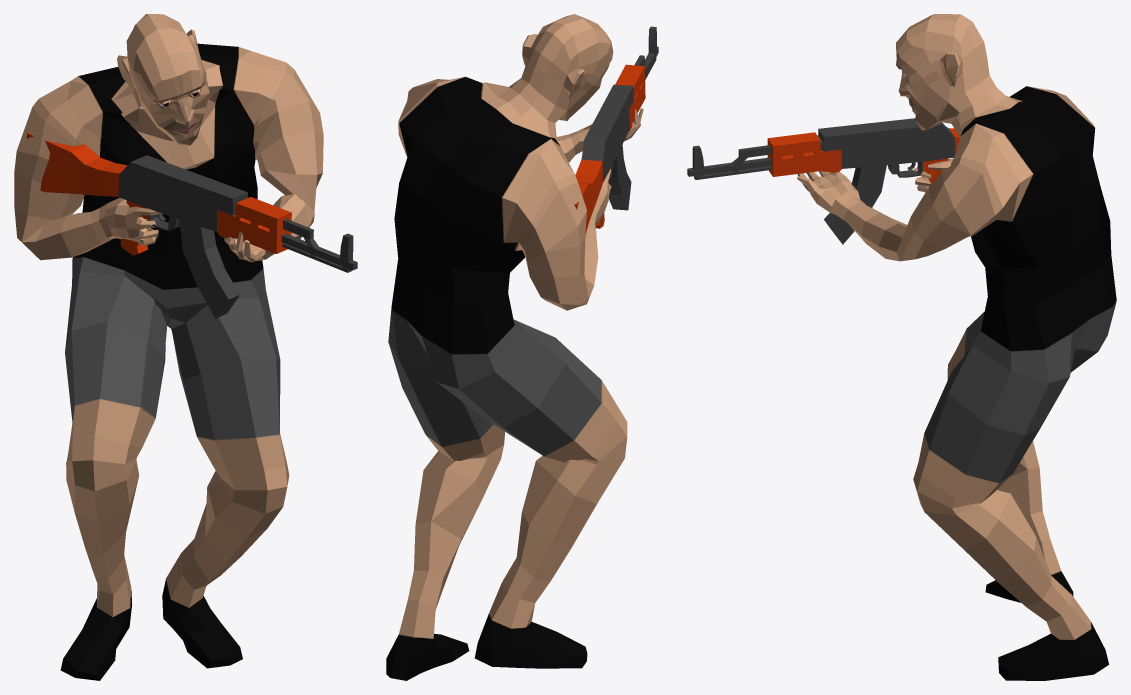
File: PlayerWalk(16).obj
3 renders of one model, left to right at view 1: azimuth 30°, elevation 25°; view 2: azimuth 150°, elevation 25°; view 3: azimuth 270°, elevation 25°, orthographic. The views are drawn at different scales.
Visible parts, largest first — view 1: Plane002, Object001; view 2: Plane002, Object001; view 3: Plane002, Object001.
Part boxes in pixels (bbox=[...]): Plane002: bbox=[14, 14, 323, 680]; Object001: bbox=[27, 132, 357, 318]; Plane002: bbox=[386, 14, 643, 680]; Object001: bbox=[574, 26, 658, 234]; Plane002: bbox=[797, 14, 1116, 680]; Object001: bbox=[687, 118, 959, 244].
Size of the model in its own units: 587 by 1585 by 1005.
